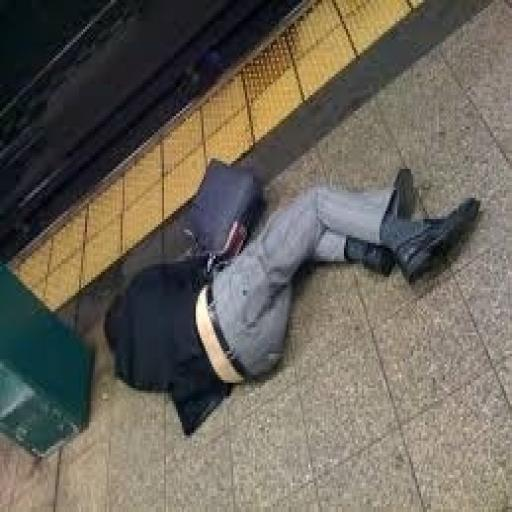sleeping: (95, 153, 482, 436)
